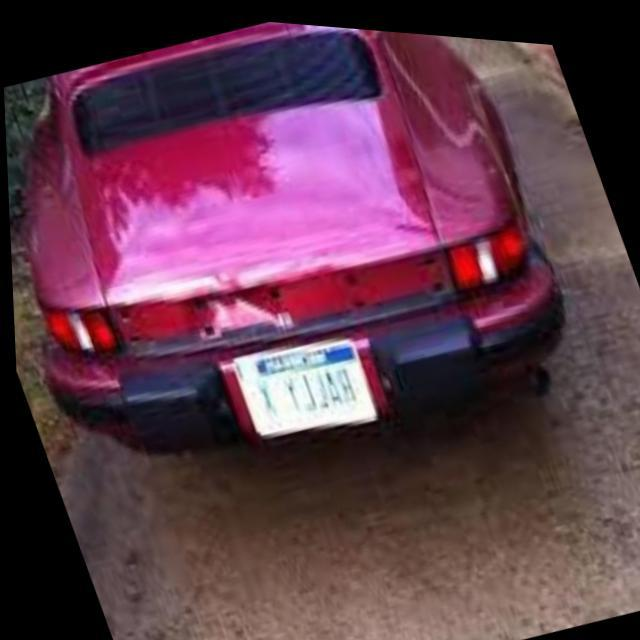dent: (166, 261, 277, 345)
